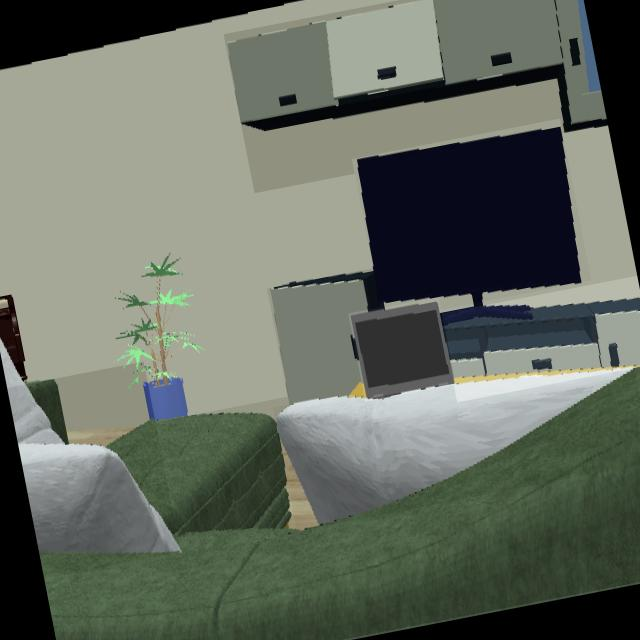cabinet: (228, 0, 608, 132), (443, 298, 640, 381), (271, 275, 383, 406)
laptop: (352, 303, 455, 400)
monitor: (357, 128, 582, 305)
pillow: (276, 367, 634, 526), (7, 386, 180, 556)
sofa: (40, 368, 640, 640)
